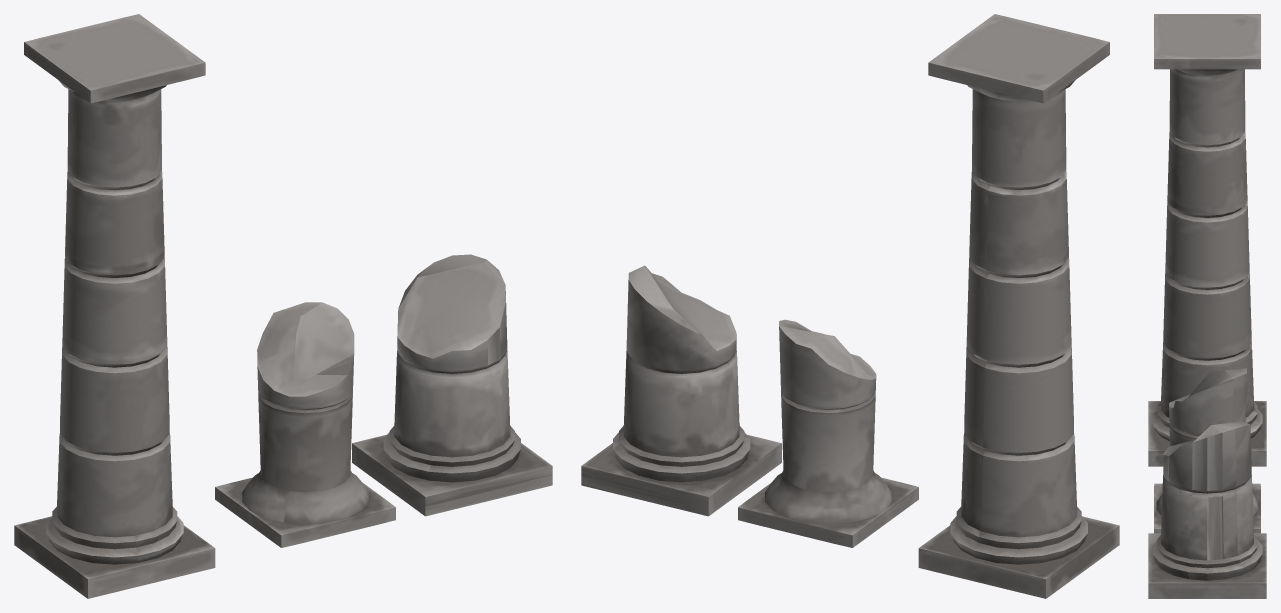
The model's file is prop_greek_columns.FBX.
3 views of the same model, side by side, from view 1: azimuth 30°, elevation 25°; view 2: azimuth 150°, elevation 25°; view 3: azimuth 270°, elevation 25° (orthographic). The views are drawn at different scales.
Visible parts, largest first — view 1: PropGreeceColumn, PropGreeceColumnBroken2, PropGreeceColumnBroken1; view 2: PropGreeceColumn, PropGreeceColumnBroken2, PropGreeceColumnBroken1; view 3: PropGreeceColumn, PropGreeceColumnBroken2, PropGreeceColumnBroken1.
Boxes of the visible parts, box(x1,y1,x2,y2) form: PropGreeceColumn: box(14, 14, 215, 598); PropGreeceColumnBroken2: box(352, 254, 552, 516); PropGreeceColumnBroken1: box(215, 302, 395, 547); PropGreeceColumn: box(918, 14, 1119, 598); PropGreeceColumnBroken2: box(581, 265, 781, 516); PropGreeceColumnBroken1: box(738, 319, 918, 547); PropGreeceColumn: box(1148, 14, 1266, 466); PropGreeceColumnBroken2: box(1148, 421, 1266, 598); PropGreeceColumnBroken1: box(1154, 368, 1260, 533).
Bounding box in the file's own units: 3.63 × 3.76 × 0.9945.
1 material, 1 textured.
